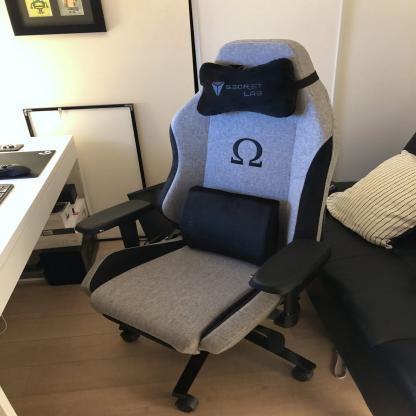chair: (76, 31, 344, 416)
sofa: (317, 127, 416, 416)
table: (0, 118, 74, 416)
